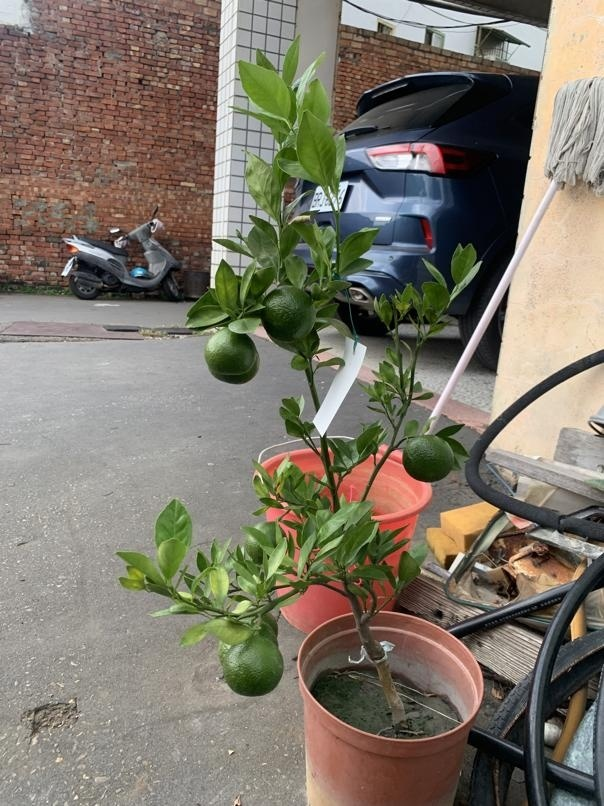Tangerine: (200, 324, 262, 387), (222, 637, 282, 697), (261, 283, 318, 341), (401, 430, 458, 484)
